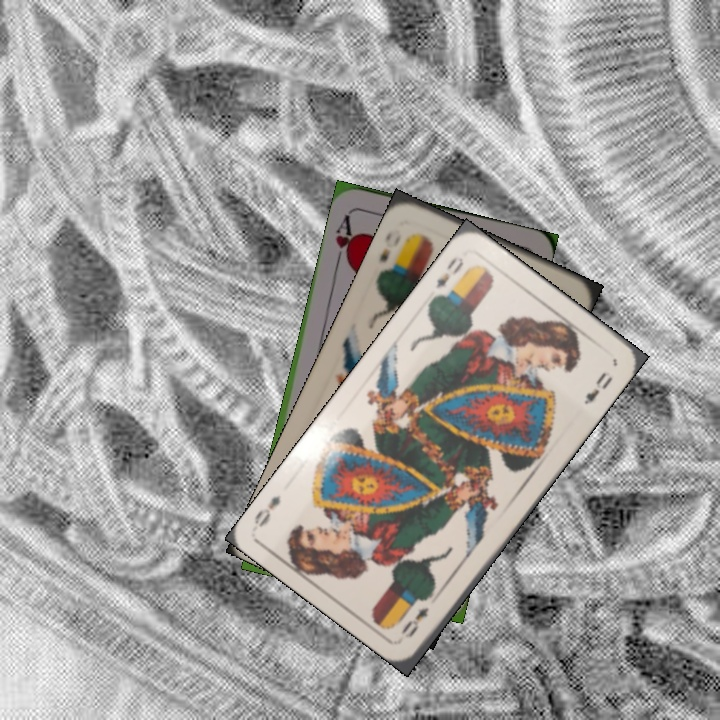EO: (430, 252, 467, 301), (396, 602, 432, 641), (375, 225, 404, 265)
HA: (331, 208, 359, 269)
